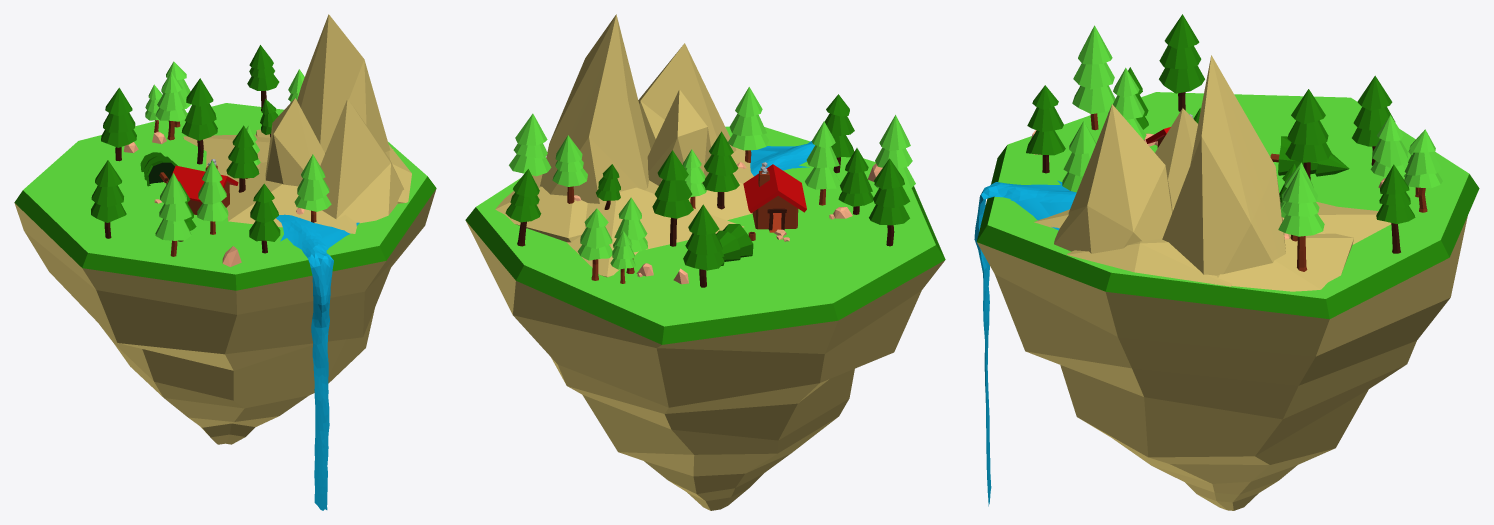
Rendered from Ilha.fbx.
3 renders of one model, left to right at view 1: azimuth 30°, elevation 25°; view 2: azimuth 150°, elevation 25°; view 3: azimuth 270°, elevation 25°, orthographic. The views are drawn at different scales.
Parts seen in each view (by area): view 1: Terreno, Chao, Rio, Arvore.1, Arvore.16, Arvore.12, Arvore.13, Arvore, Arvore.7, Arvore.11, Arvore.14, Casa (+3 smaller); view 2: Terreno, Chao, Casa, Arvore.16, Arvore.12, Arvore.13, Arvore, Arvore.7, Arvore.4, Arvore.14, Arvore.1, Arvore.8 (+10 smaller); view 3: Terreno, Chao, Rio, Arvore.1, Arvore.12, Arvore.4, Arvore.16, Arvore.11, Arvore.13, Arvore.15, Arvore.8, Arvore.2 (+3 smaller).
Boxes of the visible parts, x1,y1,x2,y2 form: Terreno: (14,14,436,444); Chao: (14,103,436,290); Rio: (276,214,359,510); Arvore.1: (155,173,191,256); Arvore.16: (181,78,217,164); Arvore.12: (91,160,126,238); Arvore.13: (101,87,136,161); Arvore: (294,154,331,222); Arvore.7: (197,160,228,234); Arvore.11: (249,183,280,253); Arvore.14: (226,125,259,192); Casa: (172,159,238,214); Terreno: (466,14,944,510); Chao: (465,126,945,344); Casa: (743,162,806,232); Arvore.16: (652,150,693,246); Arvore.12: (869,158,910,246); Arvore.13: (683,204,724,287); Arvore: (728,87,768,162); Arvore.7: (805,121,840,205); Arvore.4: (509,113,551,176); Arvore.14: (702,131,739,209); Arvore.1: (874,115,915,191); Arvore.8: (577,208,612,280); Terreno: (977,55,1467,510); Chao: (976,92,1479,319); Rio: (974,180,1076,506); Arvore.1: (1072,25,1115,130); Arvore.12: (1159,14,1204,111); Arvore.4: (1278,168,1324,271); Arvore.16: (1285,89,1331,180); Arvore.11: (1026,85,1065,173); Arvore.13: (1352,75,1395,165); Arvore.15: (1376,164,1415,253); Arvore.8: (1404,129,1442,212); Arvore.2: (1370,115,1408,176).
Bounding box in the file's own units: 259 × 284 × 255.
